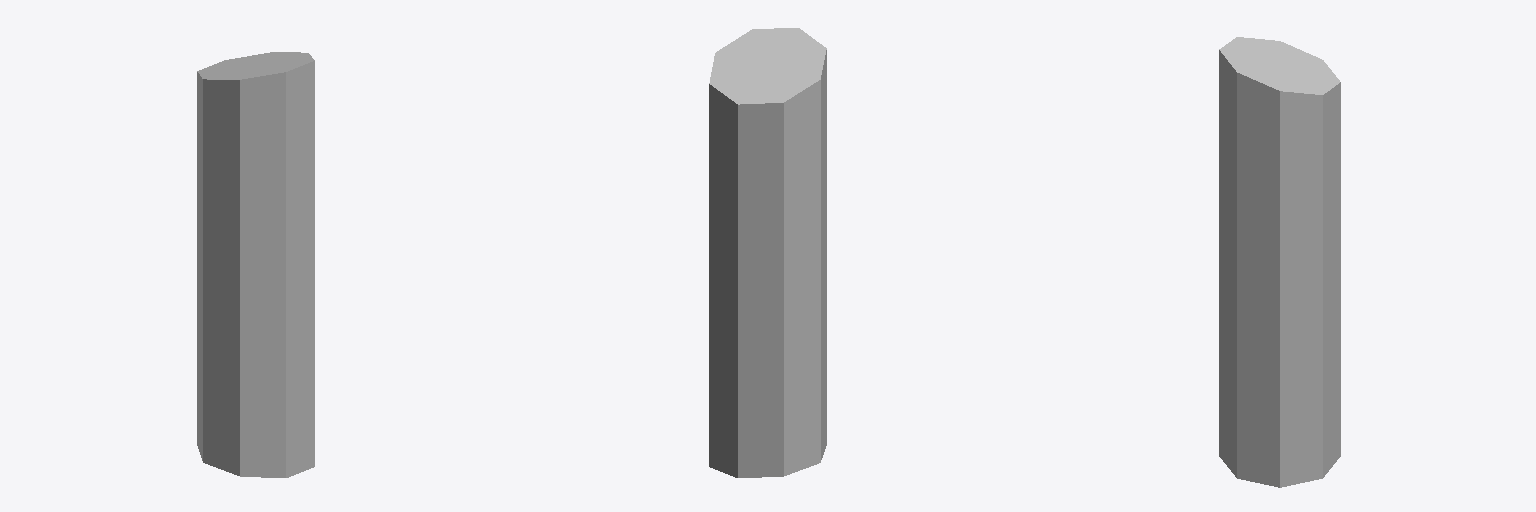
The model's file is broken_column3.obj.
3 renders of one model, left to right at view 1: azimuth 30°, elevation 25°; view 2: azimuth 150°, elevation 25°; view 3: azimuth 270°, elevation 25°, orthographic.
Parts seen in each view (by area): view 1: Object.1; view 2: Object.1; view 3: Object.1.
Boxes of the visible parts, box(x1,y1,x2,y2) form: Object.1: box(197, 52, 314, 477); Object.1: box(709, 28, 826, 477); Object.1: box(1219, 37, 1340, 487).
Size of the model in its own units: 0.6415 by 2.4 by 0.6415.